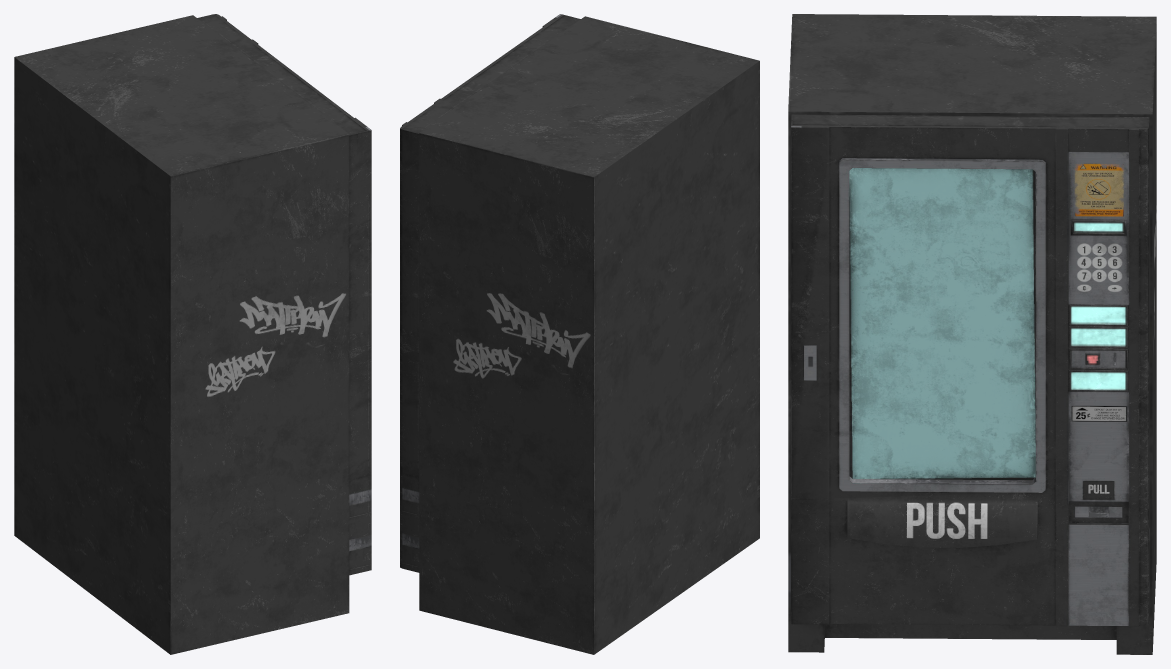
Rendered from maquina.glb.
The picture shows the model from 3 angles, left to right: view 1: azimuth 30°, elevation 25°; view 2: azimuth 150°, elevation 25°; view 3: azimuth 270°, elevation 25°; orthographic projection. The views are drawn at different scales.
Parts seen in each view (by area): view 1: defaultMaterial; view 2: defaultMaterial; view 3: defaultMaterial.
Part boxes in pixels (x1=…): defaultMaterial: x1=14, y1=14, x2=371, y2=654; defaultMaterial: x1=400, y1=14, x2=759, y2=654; defaultMaterial: x1=788, y1=14, x2=1156, y2=654.
Bounding box in the file's own units: 0.8305 × 1.8 × 1.11.
Materials: 1 (1 with a texture image).
